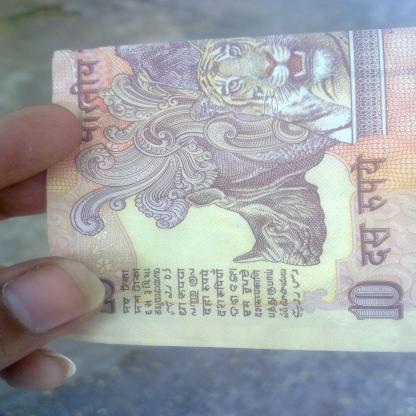Old10Back: (46, 26, 416, 354)
